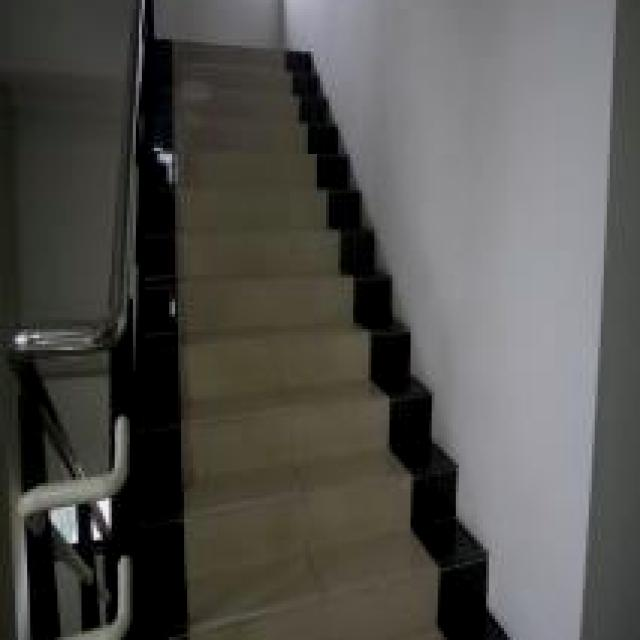upstair: (164, 16, 502, 640)
